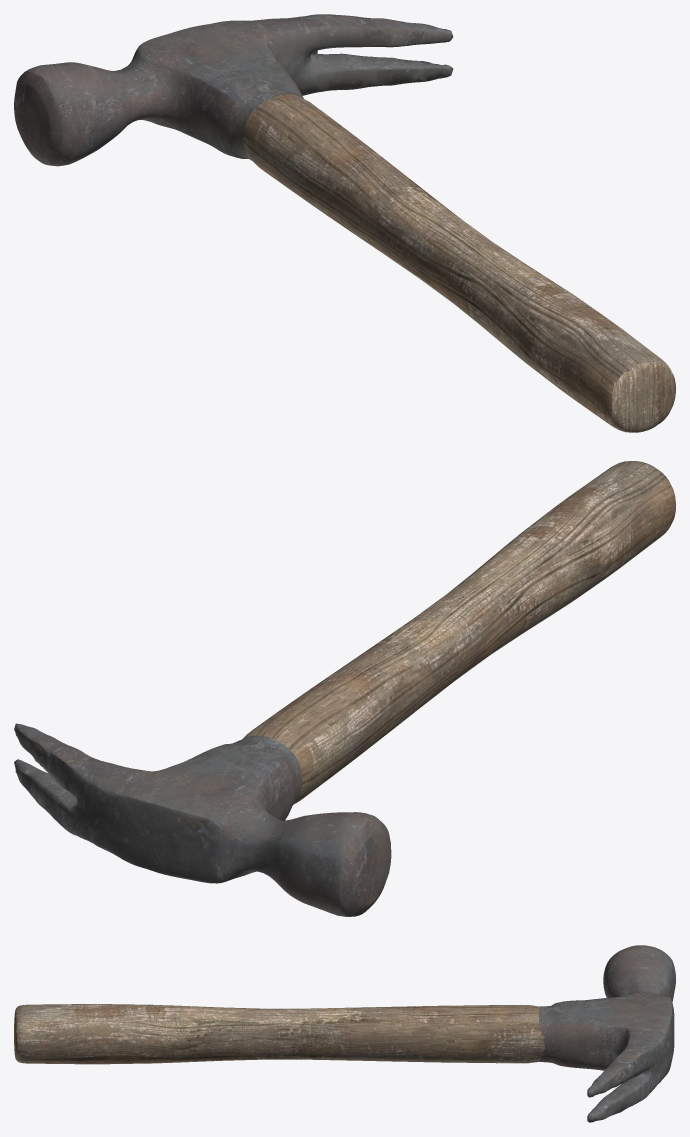
Rendered from SM_Hammer.fbx.
The picture shows the model from 3 angles, top to bottom: view 1: azimuth 30°, elevation 25°; view 2: azimuth 150°, elevation 25°; view 3: azimuth 270°, elevation 25°; orthographic projection. The views are drawn at different scales.
Visible parts, largest first — view 1: SM_Hammer_LOD0; view 2: SM_Hammer_LOD0; view 3: SM_Hammer_LOD0.
Boxes of the visible parts, box(x1,y1,x2,y2) form: SM_Hammer_LOD0: box(14, 14, 675, 432); SM_Hammer_LOD0: box(14, 461, 675, 916); SM_Hammer_LOD0: box(14, 945, 675, 1122).
Size of the model in its own units: 19.01 by 39.47 by 4.3.
